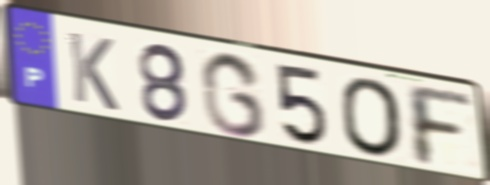5: (274, 60, 330, 149)
8: (136, 41, 190, 125)
F: (402, 80, 477, 170)
G: (198, 50, 269, 140)
K: (65, 28, 122, 115)
O: (337, 76, 406, 160)
